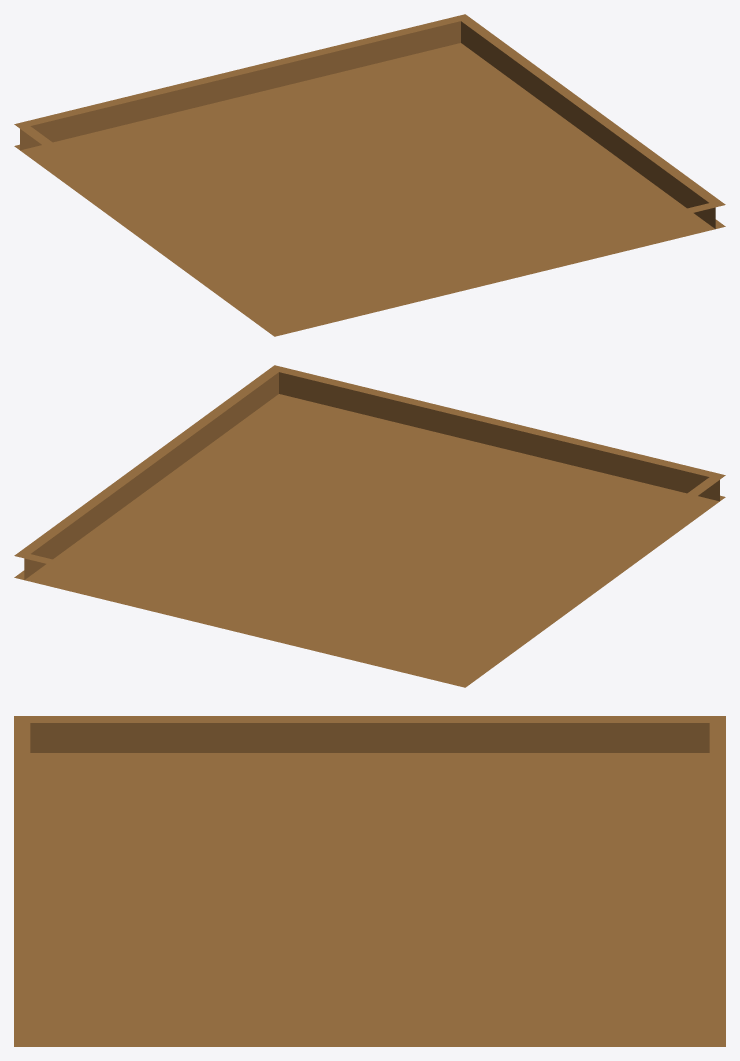
The model's file is board.glb.
3 renders of one model, top to bottom at view 1: azimuth 30°, elevation 25°; view 2: azimuth 150°, elevation 25°; view 3: azimuth 270°, elevation 25°, orthographic. The views are drawn at different scales.
Size of the model in its own units: 13 by 0.6 by 13.
